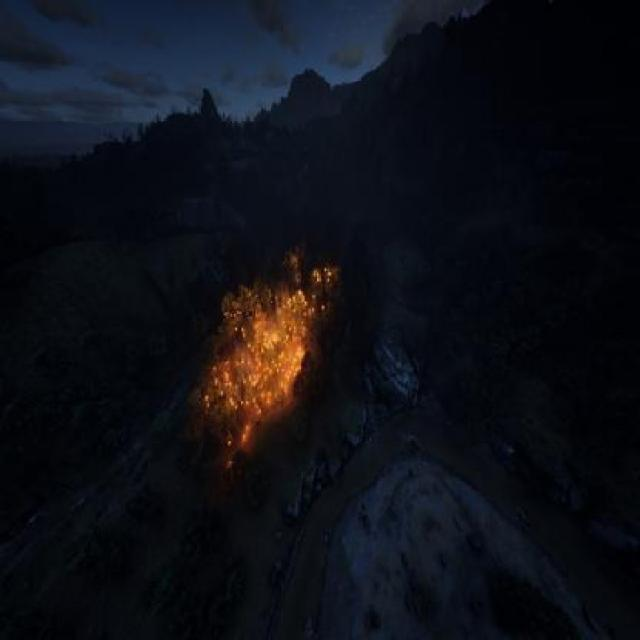Fire: (180, 231, 358, 484)
